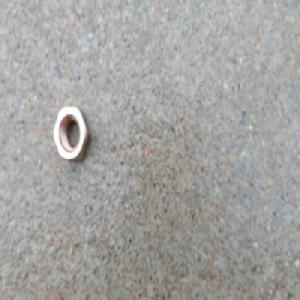Nut: (52, 103, 89, 164)
